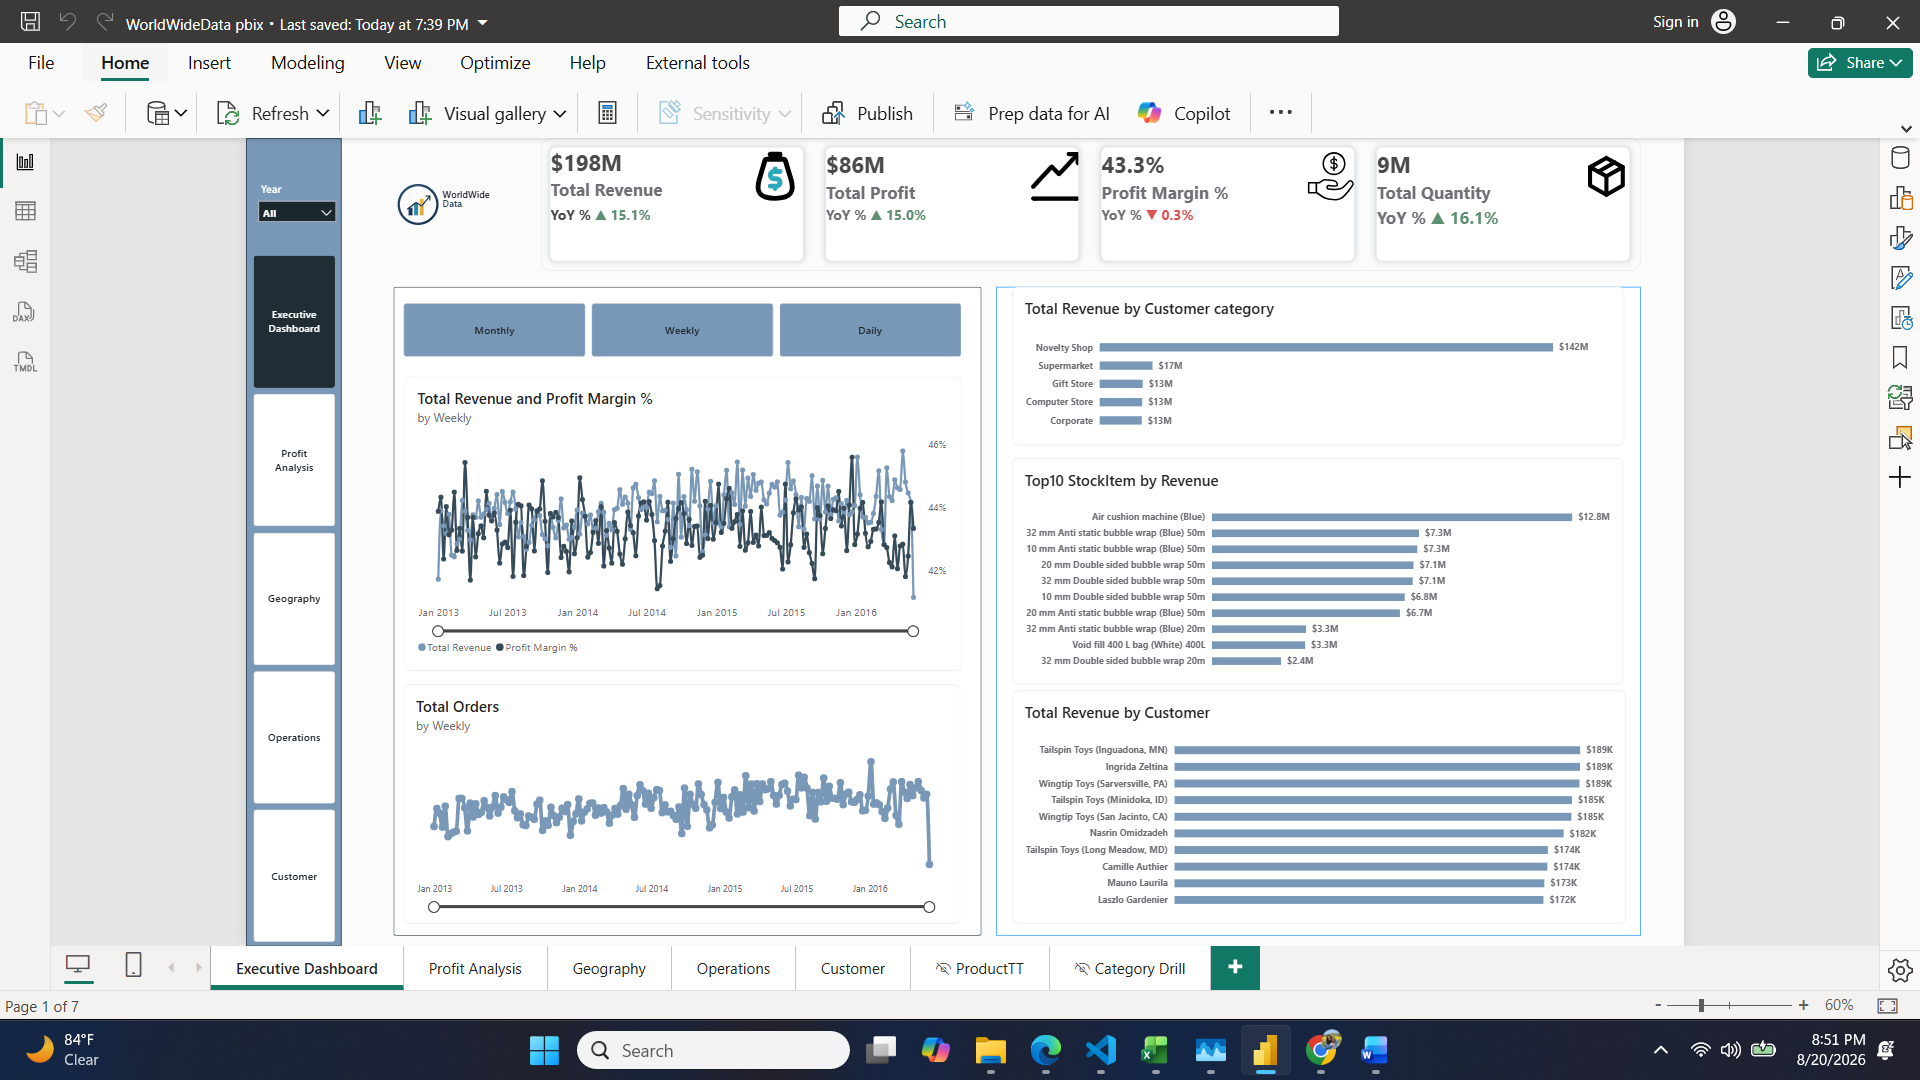

Layout of this report page (visuals, bound fields, positions):
{"tool":"powerbi","page":{"name":"Executive Dashboard","canvas":[1920,1080],"ordinal":0},"visuals":[{"type":"image","box":[197.4,7.8,296.1,163.6],"z":0},{"type":"shape","box":[0,0,127.7,1079.9],"z":1000},{"type":"shape","title":"Shape Line","box":[197.3,199.1,785.4,866.8],"z":2000},{"type":"shape","title":"ShapeBar","box":[1002.6,199.1,861.4,866.8],"z":3000},{"type":"cardVisual","fields":{"Data":["_Measures.Total Revenue","_Measures.Total Profit","_Measures.Profit Margin %","_Measures.Total Quantity"]},"box":[393.9,0,1469.5,177.5],"z":4000},{"type":"lineChart","fields":{"Category":["Dim_Date.Monthly Date"],"Y":["_Measures.Total Revenue"],"Y2":["_Measures.Profit Margin %"]},"box":[211.7,318.5,743.8,392.7],"z":5000},{"type":"advancedSlicerVisual","fields":{"Values":["Parameter.Parameter"]},"box":[209.9,220.8,745.6,72.4],"z":6000},{"type":"clusteredBarChart","title":"Top10 StockItem by Revenue","fields":{"Category":["Dim_Product.StockItemName"],"Y":["_Measures.Total Revenue"]},"box":[1023.8,427.3,816.3,301.7],"z":7000},{"type":"clusteredBarChart","title":"Total Revenue by Customer","fields":{"Category":["Dim_ Customers.CustomerName"],"Y":["_Measures.Total Profit"]},"box":[1024.3,738.3,819.8,311.3],"z":8000},{"type":"clusteredBarChart","title":"Total Revenue by Customer category","fields":{"Category":["Dim_ Customers.CustomerCategoryName"],"Y":["_Measures.Total Revenue"]},"box":[1024.3,199.1,818,211.7],"z":9000},{"type":"lineChart","fields":{"Category":["Dim_Date.Monthly Date"],"Y":["_Measures.Total Orders"]},"box":[209.9,729.3,743.8,320.3],"z":10000},{"type":"slicer","fields":{"Values":["Dim_Date.Year"]},"box":[10.5,12.2,114,63.3],"z":11000},{"type":"slicer","fields":{"Values":["Dim_ Customers.AccountOpenedDate.Variation.Date Hierarchy.Month"]},"box":[12.2,195.3,109.9,52.3],"z":12000},{"type":"pageNavigator","box":[10.5,305.2,109.9,770.9],"z":13000}]}

Visuals, with their boxes on the page's 1920x1080 design canvas (x1, y1, x2, y2). These are canvas units, not pixel positions in the 1920x1080 screenshot, which may show the page scaled, cropped or inside an application window:
image: {"left": 197, "top": 8, "right": 494, "bottom": 171}
shape: {"left": 0, "top": 0, "right": 128, "bottom": 1080}
"Shape Line" shape: {"left": 197, "top": 199, "right": 983, "bottom": 1066}
"ShapeBar" shape: {"left": 1003, "top": 199, "right": 1864, "bottom": 1066}
cardVisual - _Measures.Total Revenue x _Measures.Total Profit: {"left": 394, "top": 0, "right": 1863, "bottom": 178}
lineChart - Dim_Date.Monthly Date x _Measures.Total Revenue: {"left": 212, "top": 318, "right": 956, "bottom": 711}
advancedSlicerVisual - Parameter.Parameter: {"left": 210, "top": 221, "right": 956, "bottom": 293}
"Top10 StockItem by Revenue" clusteredBarChart: {"left": 1024, "top": 427, "right": 1840, "bottom": 729}
"Total Revenue by Customer" clusteredBarChart: {"left": 1024, "top": 738, "right": 1844, "bottom": 1050}
"Total Revenue by Customer category" clusteredBarChart: {"left": 1024, "top": 199, "right": 1842, "bottom": 411}
lineChart - Dim_Date.Monthly Date x _Measures.Total Orders: {"left": 210, "top": 729, "right": 954, "bottom": 1050}
slicer - Dim_Date.Year: {"left": 10, "top": 12, "right": 124, "bottom": 76}
slicer - Dim_ Customers.AccountOpenedDate.Variation.Date Hierarchy.Month: {"left": 12, "top": 195, "right": 122, "bottom": 248}
pageNavigator: {"left": 10, "top": 305, "right": 120, "bottom": 1076}
